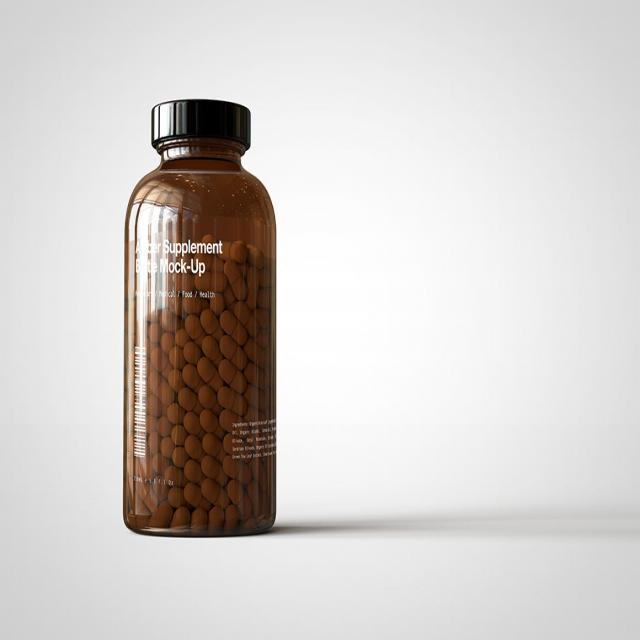jar: (122, 100, 278, 537)
